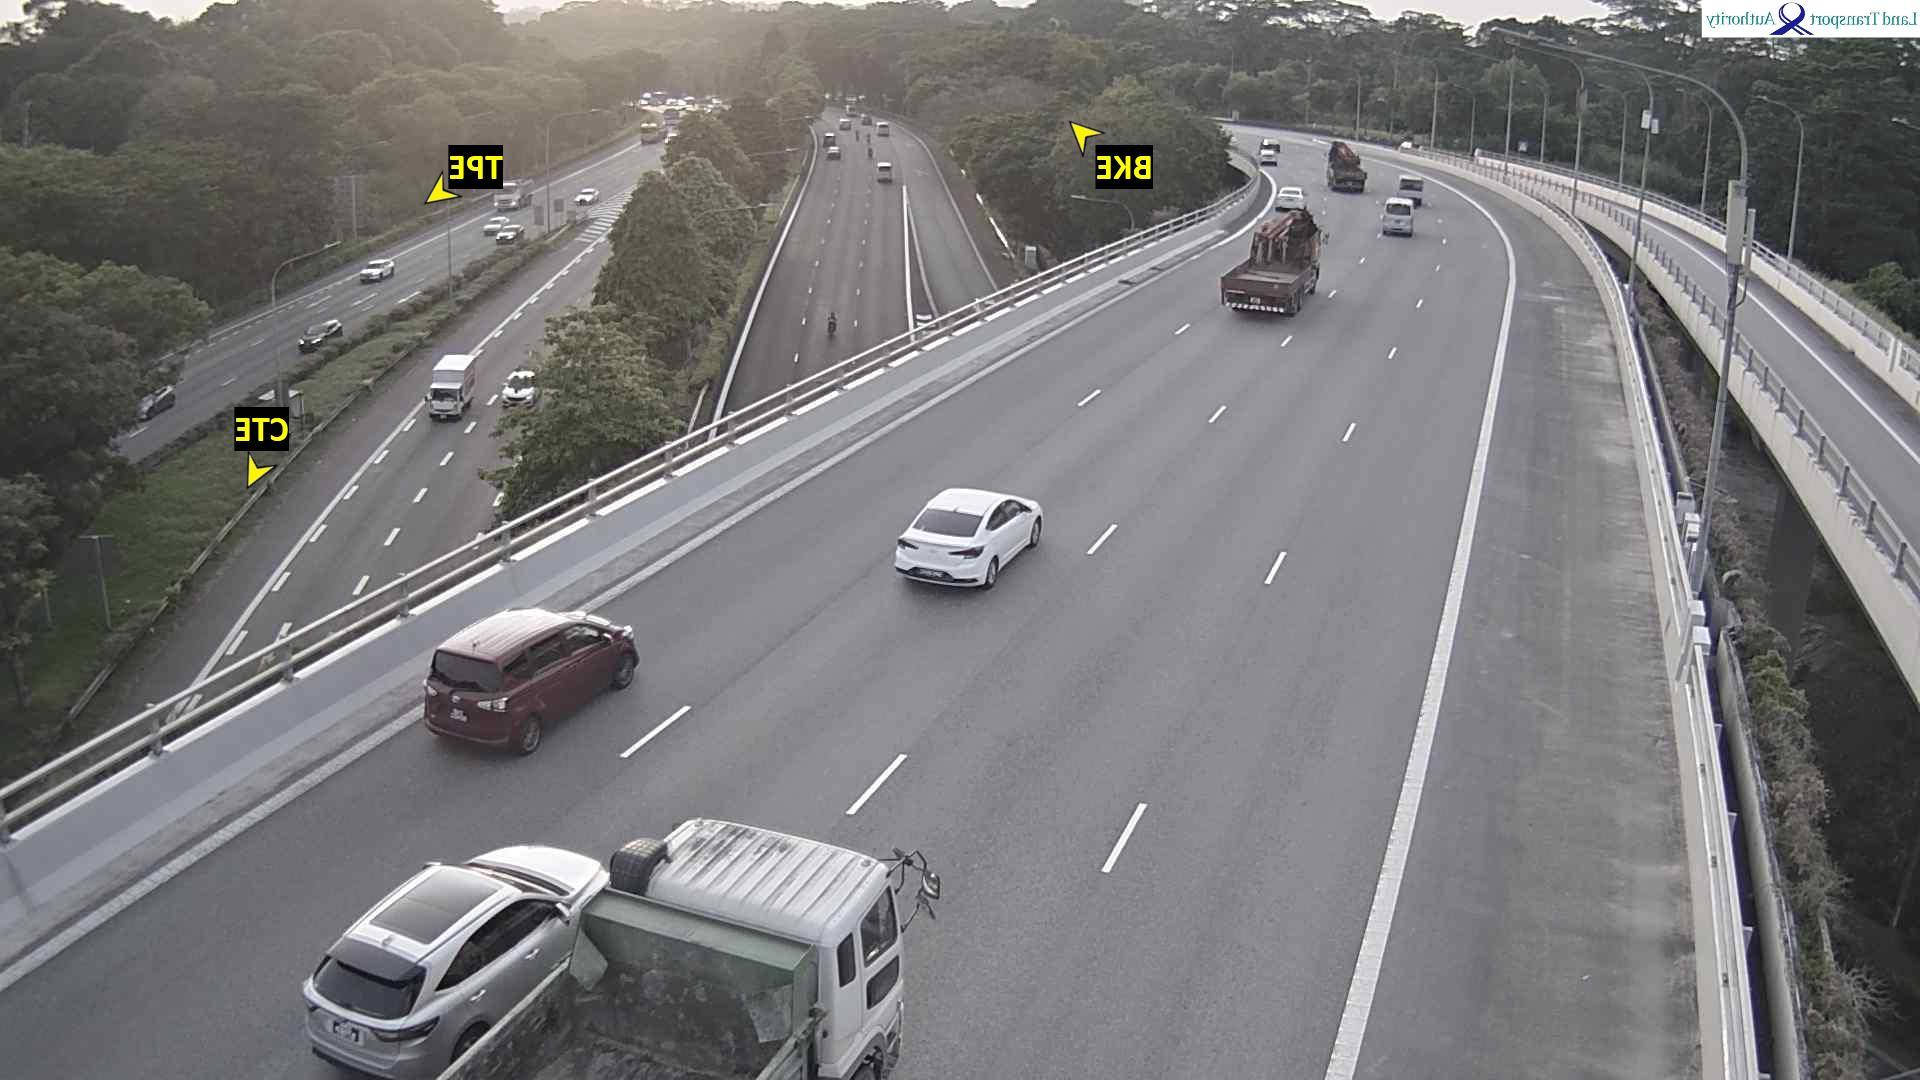cars: (302, 842, 610, 1078), (423, 605, 641, 755), (895, 486, 1045, 589), (298, 317, 344, 351), (502, 367, 539, 408), (138, 383, 176, 420), (1381, 195, 1415, 236), (360, 256, 397, 283), (1398, 173, 1425, 206), (1276, 185, 1307, 211), (497, 222, 526, 243), (640, 119, 665, 143), (1260, 136, 1282, 163), (483, 214, 508, 235), (640, 90, 668, 108), (575, 186, 601, 205), (824, 131, 841, 159), (705, 96, 730, 113), (877, 160, 894, 182), (1399, 137, 1418, 151), (876, 120, 891, 136), (666, 127, 681, 143), (826, 145, 842, 159), (838, 116, 852, 130), (860, 112, 875, 125), (824, 131, 837, 144)
motorcycle: (825, 310, 842, 337), (866, 147, 875, 162), (863, 131, 873, 144), (854, 127, 860, 142)
trucks: (435, 815, 942, 1078), (1221, 206, 1328, 316), (425, 352, 479, 420), (1327, 140, 1368, 191), (494, 177, 534, 211)
